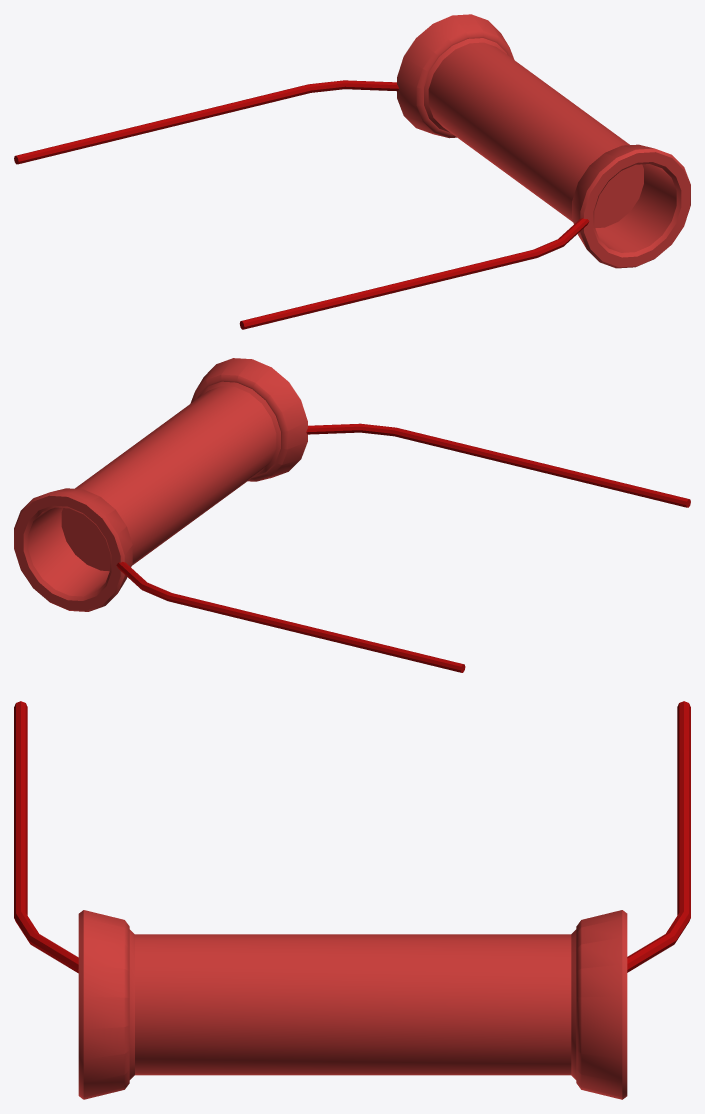
The model's file is elements015.fbx.
3 renders of one model, top to bottom at view 1: azimuth 30°, elevation 25°; view 2: azimuth 150°, elevation 25°; view 3: azimuth 270°, elevation 25°, orthographic. The views are drawn at different scales.
Visible parts, largest first — view 1: element015_LOD0; view 2: element015_LOD0; view 3: element015_LOD0.
Boxes of the visible parts, x1=… form: element015_LOD0: x1=14, y1=14, x2=690, y2=329; element015_LOD0: x1=14, y1=358, x2=690, y2=672; element015_LOD0: x1=14, y1=701, x2=690, y2=1099.
Size of what is drawn, in the model's own units: 1.28 by 0.3054 by 1.08.
